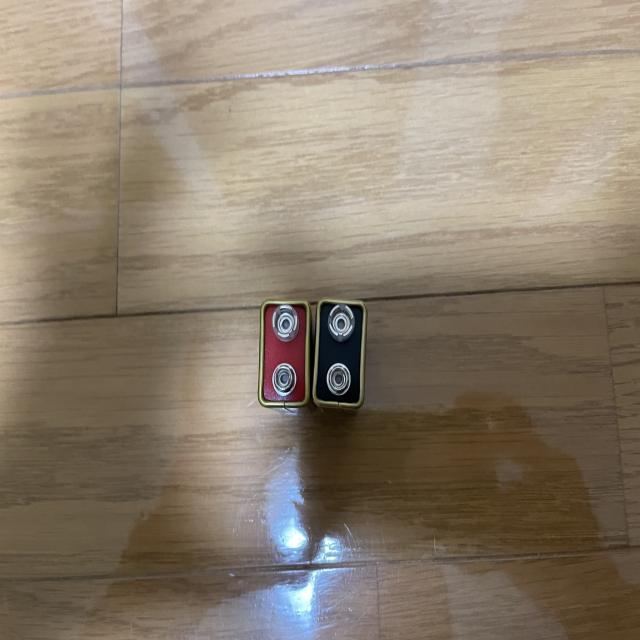9V: (257, 299, 314, 410), (311, 299, 368, 410)
